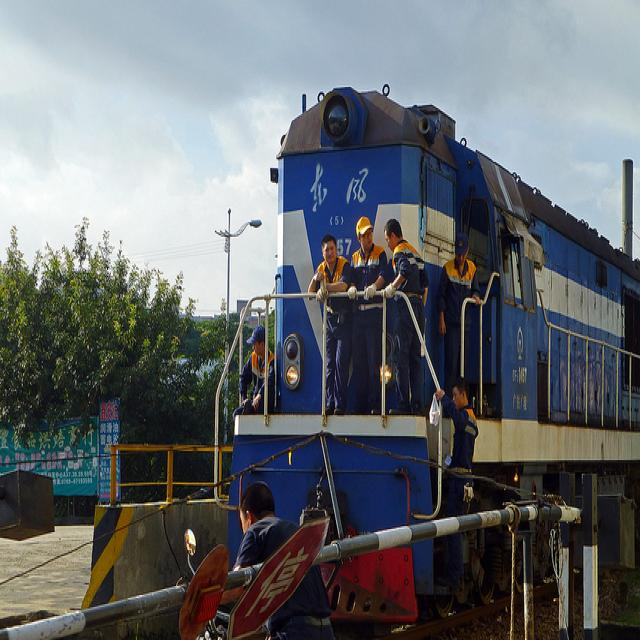motor: (184, 529, 272, 640)
